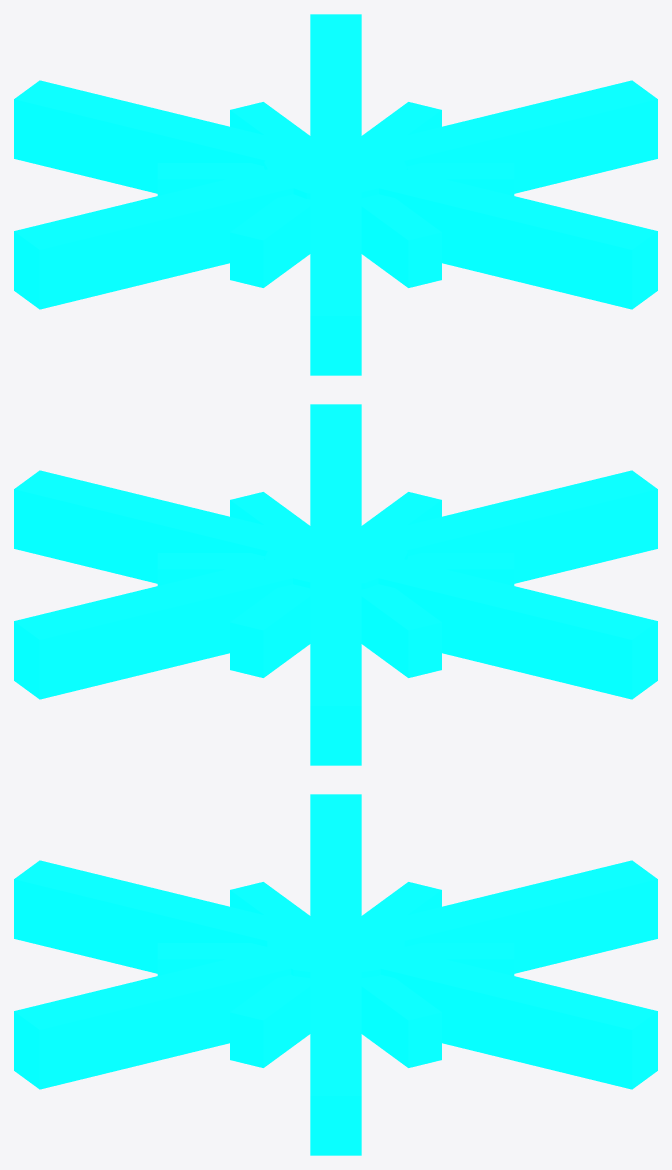
Rendered from pu_freeze.glb.
The picture shows the model from 3 angles, top to bottom: view 1: azimuth 30°, elevation 25°; view 2: azimuth 150°, elevation 25°; view 3: azimuth 270°, elevation 25°; orthographic projection.
Visible parts, largest first — view 1: pu_freeze; view 2: pu_freeze; view 3: pu_freeze.
Part boxes in pixels (x1,y1,x2,y2): pu_freeze: (14,14,657,375); pu_freeze: (14,404,657,765); pu_freeze: (14,794,657,1155).
Bounding box in the file's own units: 0.76 × 0.07 × 0.6857.
